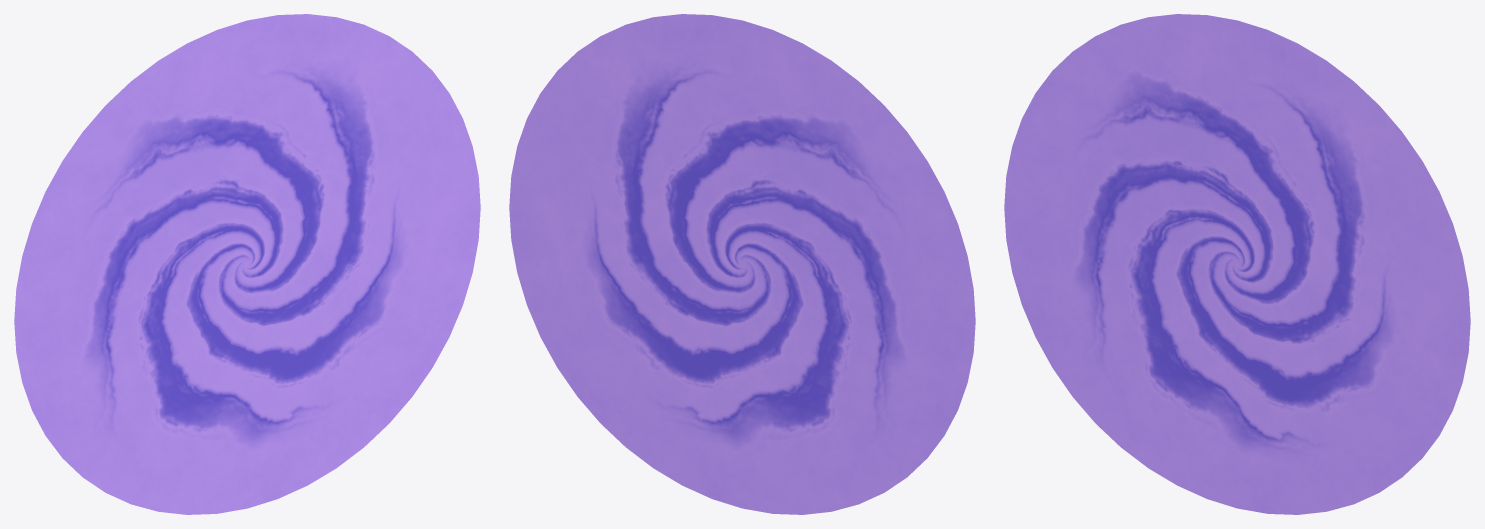
Rendered from sky_swirl_c.glb.
3 renders of one model, left to right at view 1: azimuth 30°, elevation 25°; view 2: azimuth 150°, elevation 25°; view 3: azimuth 330°, elevation 25°, orthographic.
Visible parts, largest first — view 1: sky_swirl_c; view 2: sky_swirl_c; view 3: sky_swirl_c.
Boxes of the visible parts, x1,y1,x2,y2 form: sky_swirl_c: [14, 14, 480, 514]; sky_swirl_c: [509, 14, 975, 514]; sky_swirl_c: [1004, 14, 1470, 514].
Bounding box in the file's own units: 2 × 2 × 0.
Materials: 1 (1 with a texture image).
